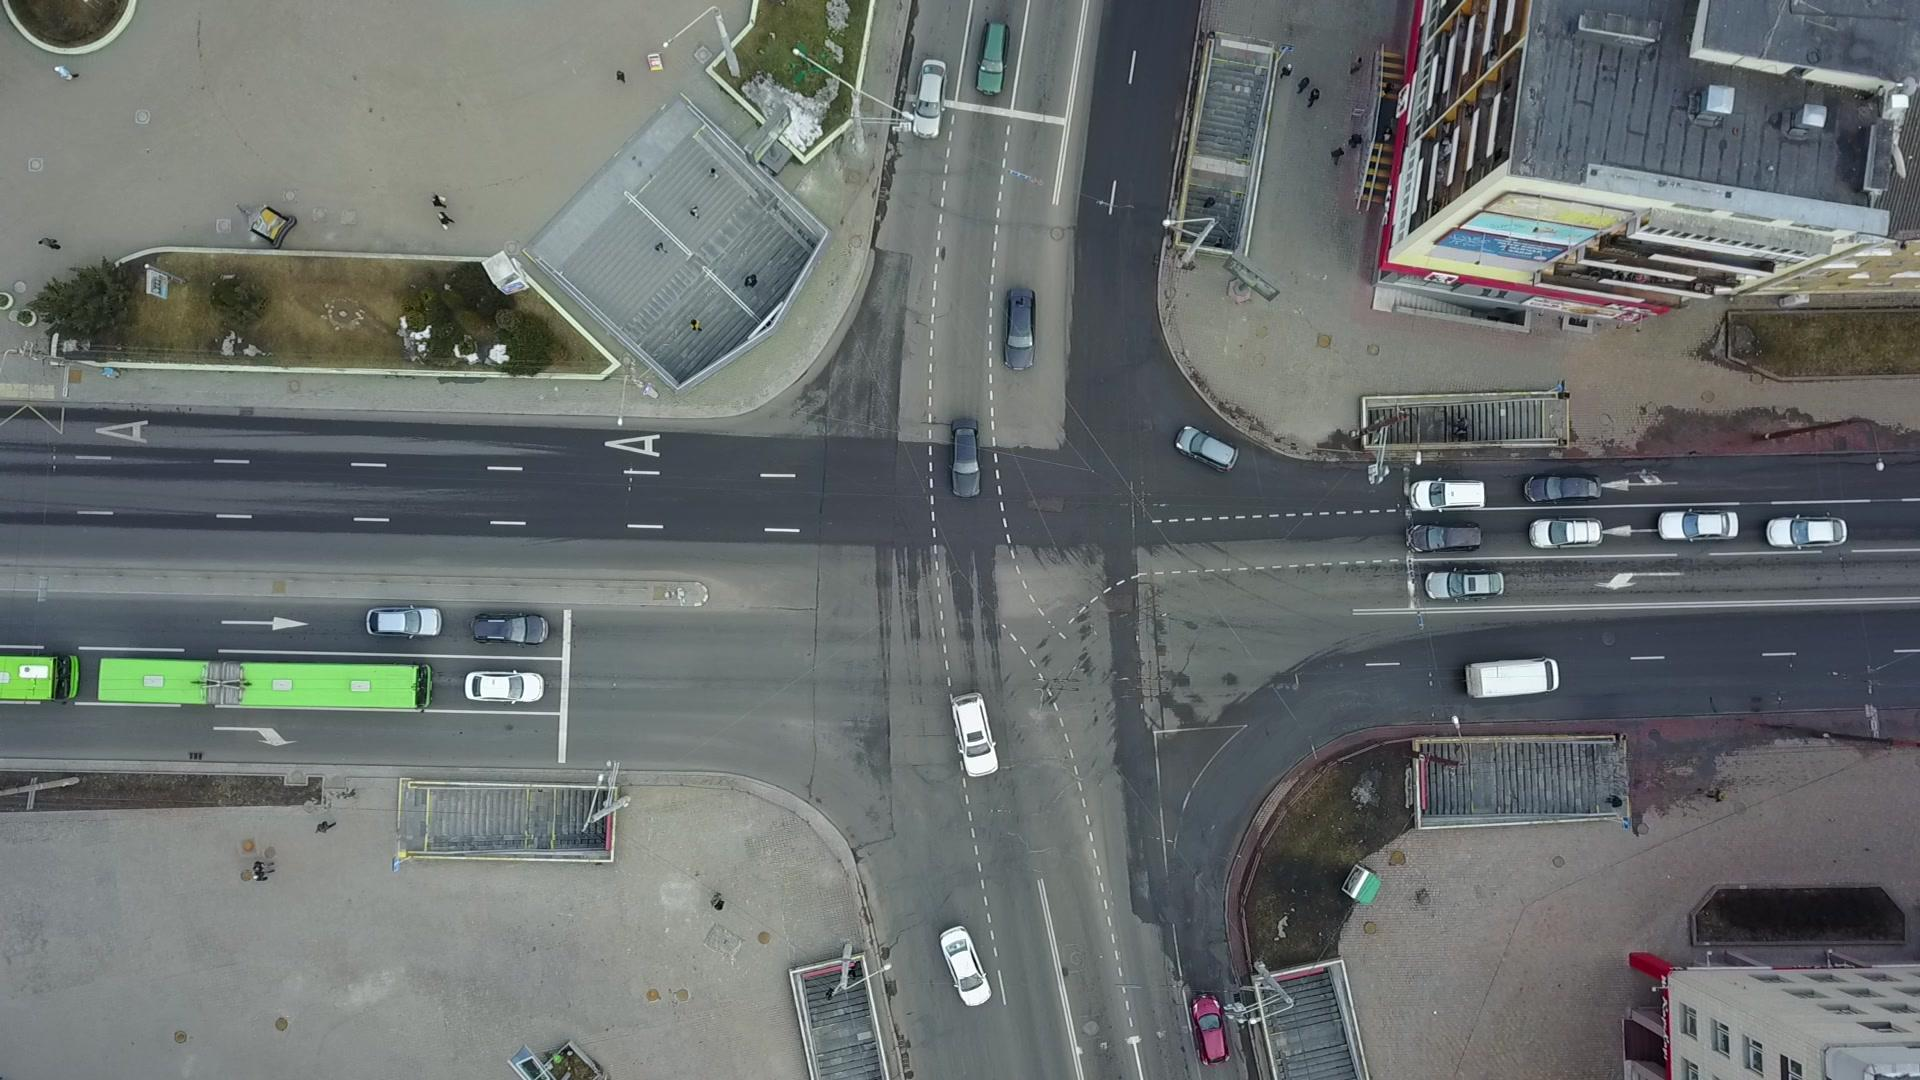car: (938, 924, 993, 1007), (949, 690, 1000, 778), (1172, 423, 1244, 476), (463, 667, 546, 707), (1408, 475, 1487, 516), (1764, 513, 1849, 551), (1000, 287, 1038, 371), (1655, 506, 1741, 543), (1189, 992, 1232, 1065), (1423, 566, 1505, 603), (363, 603, 443, 640), (1404, 518, 1484, 555), (469, 609, 551, 645), (948, 417, 984, 498), (1526, 516, 1605, 550), (1523, 471, 1604, 502)
